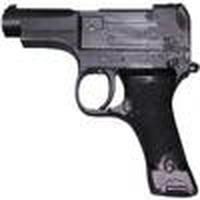gun: (3, 6, 198, 199)
